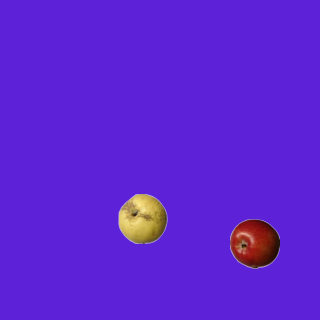Apple Braeburn: (229, 218, 279, 268)
Apple Golden 1: (117, 193, 167, 243)
